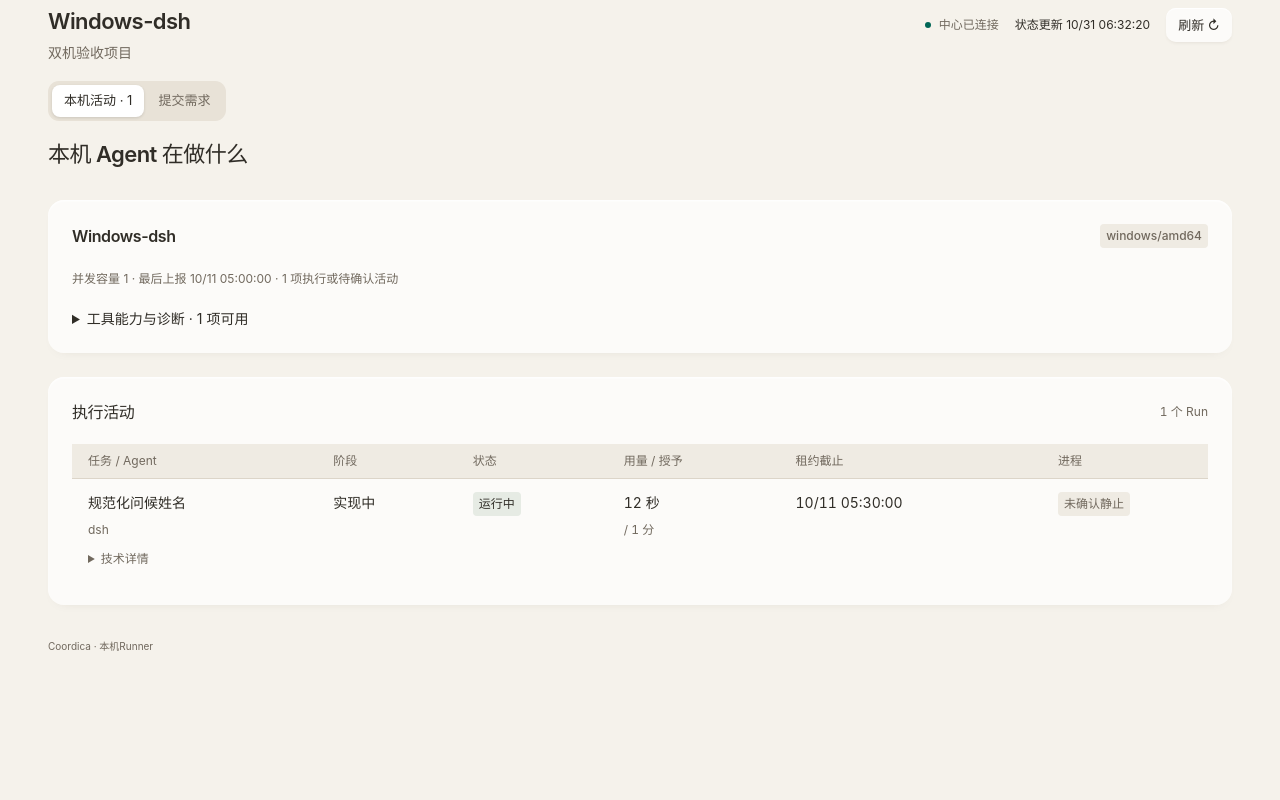
Test case: local Runner workbench › preserves a failed requirement draft for retry and clears it only after a receipt
Expected: the text "规范化问候姓名" is shown, [88,494,186,511]
Click the button "提交需求". click: coordinates (184, 101)
box: [146,85,222,117]
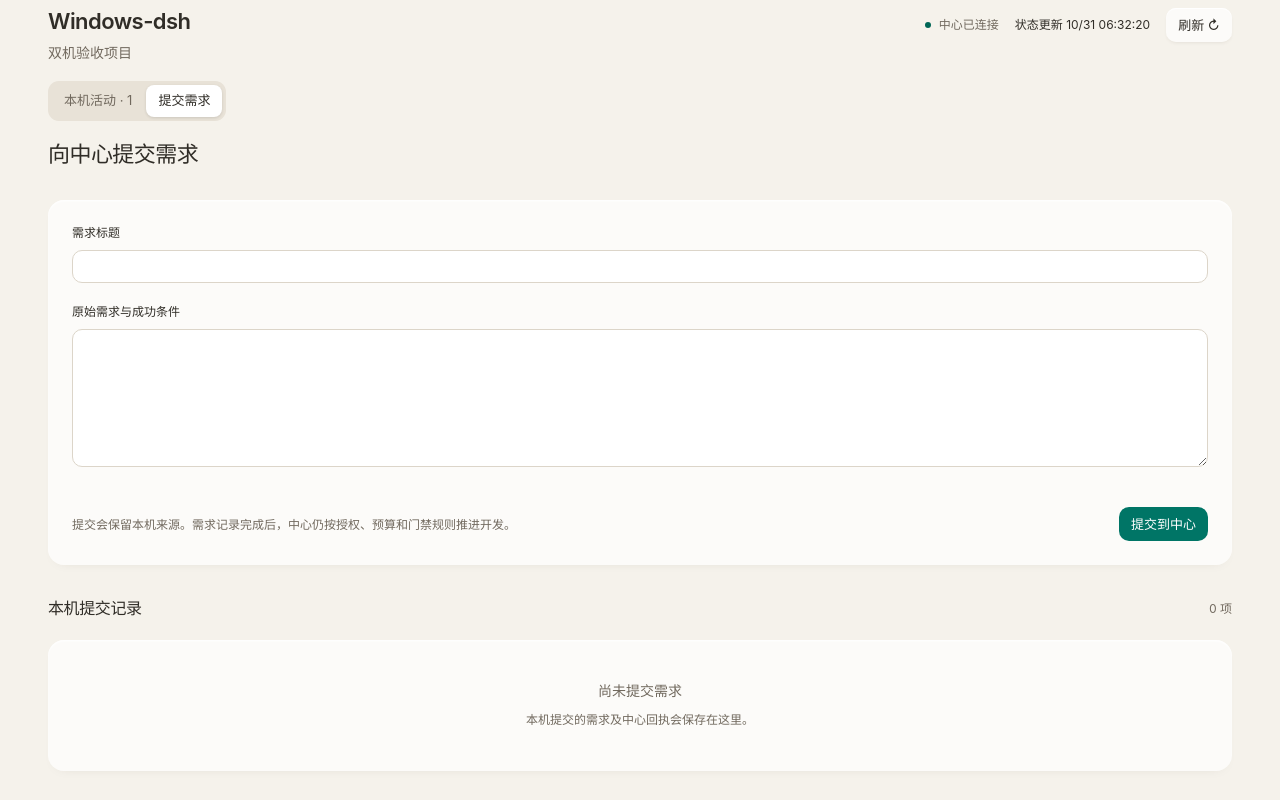
Type "新增搜索" into the field labelled "需求标题". click: coordinates (640, 267)
box: [72,250,1208,283]
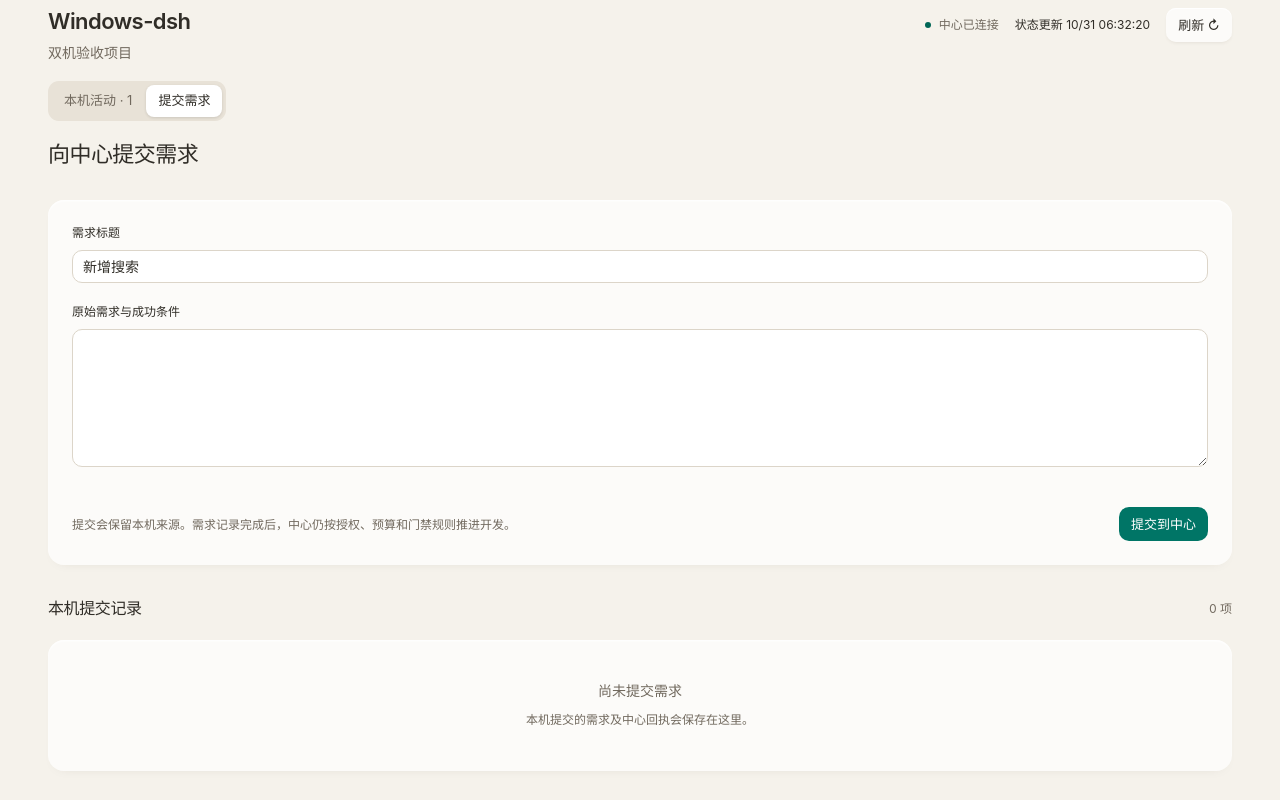
Type "按名称搜索" into the text box labelled "原始需求与成功条件". click: coordinates (640, 398)
box: [72,329,1208,467]
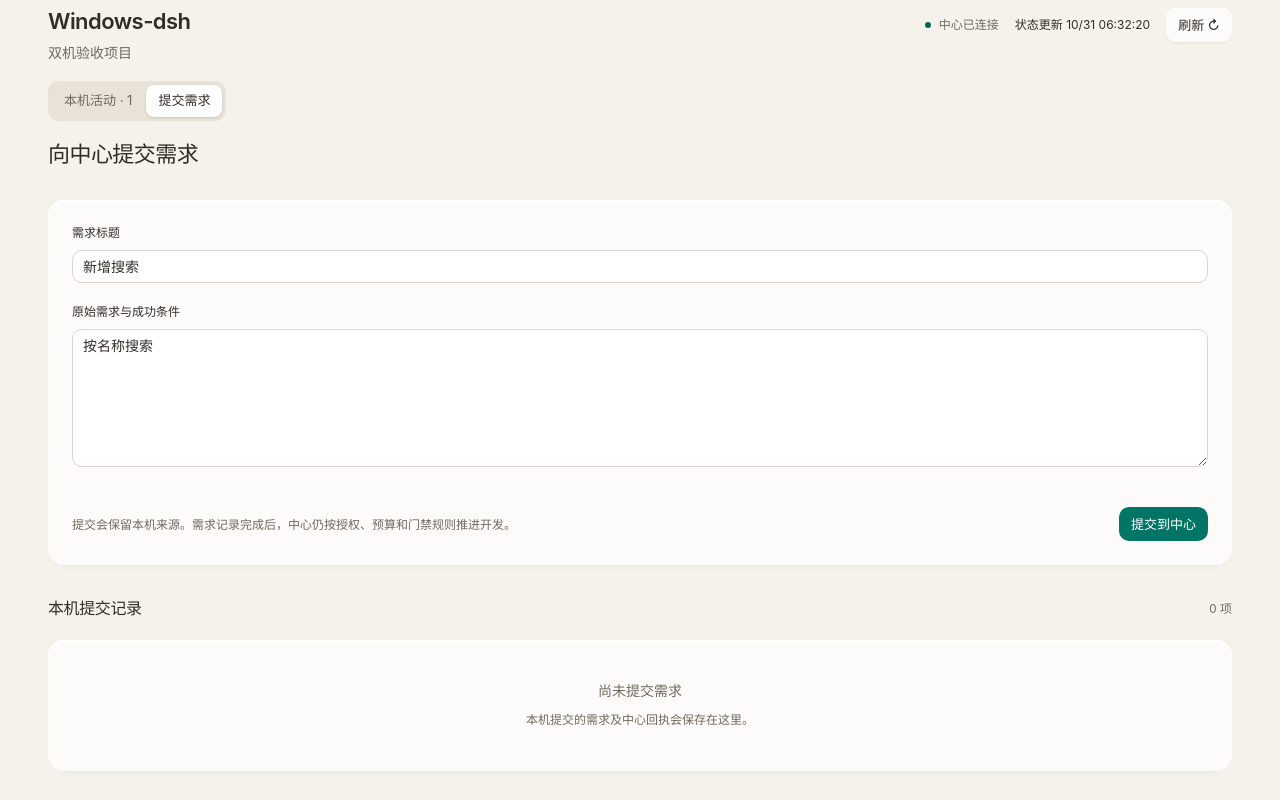
Click the button "提交到中心". click: coordinates (1164, 524)
box: [1119,507,1208,541]
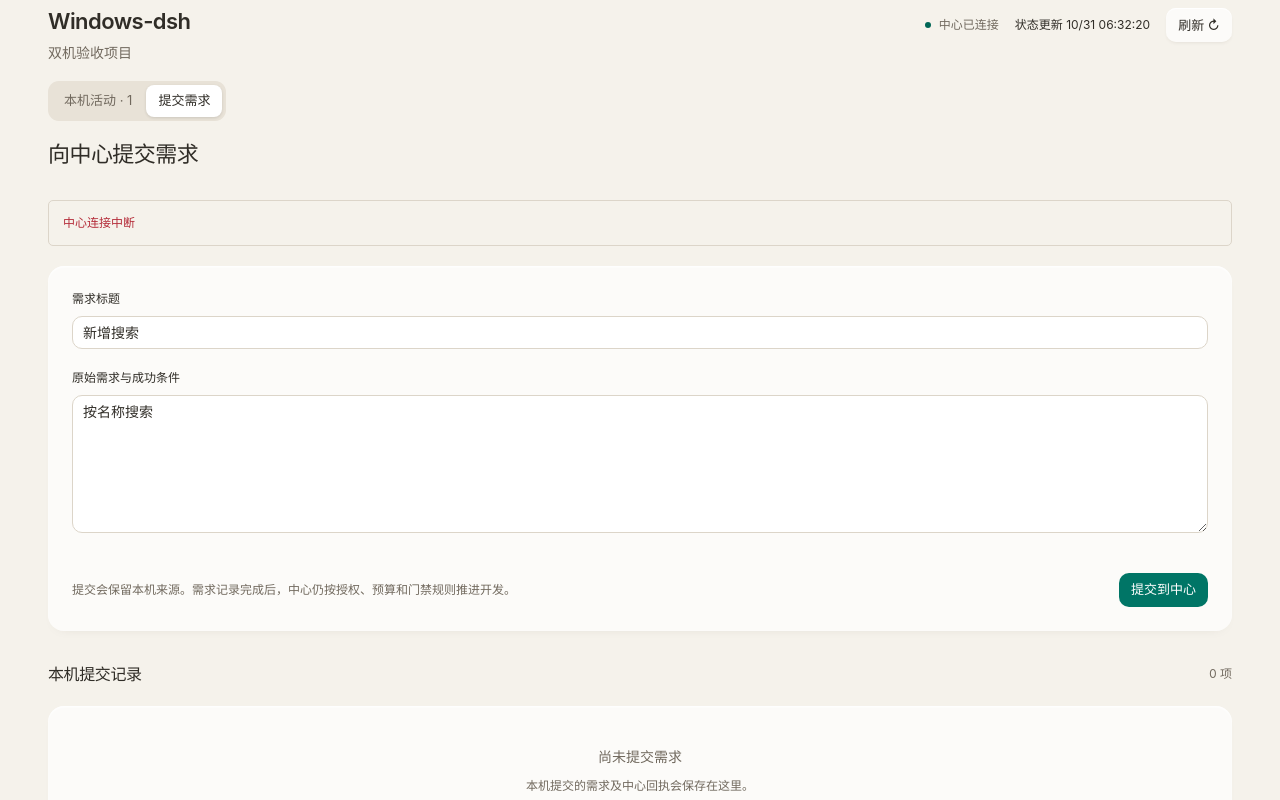
Result: the text "中心连接中断" is shown at [48,200,1232,246]
Click the button "提交到中心". click: coordinates (1164, 590)
box: [1119,573,1208,607]
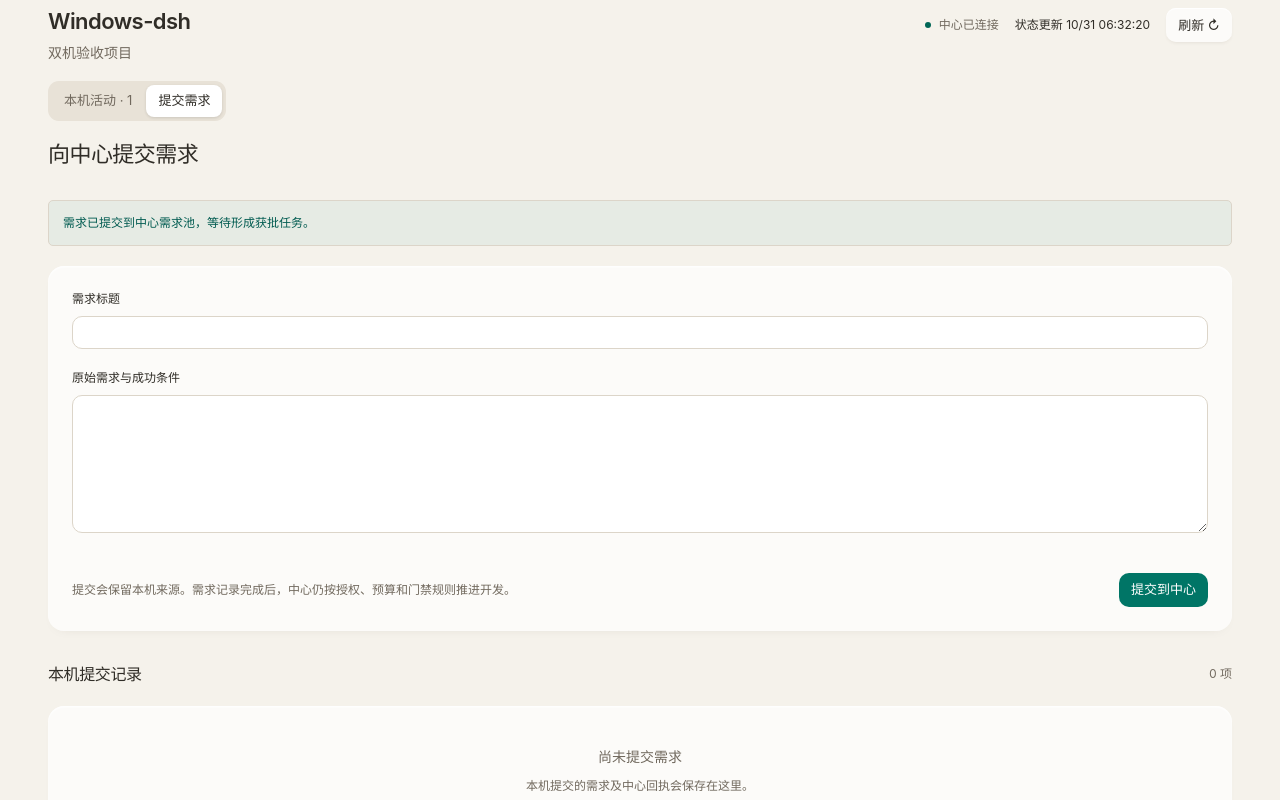
Result: the field labelled "需求标题" is empty at [72,316,1208,349]
Result: the message shows "等待形成获批任务" at [63,215,315,230]
